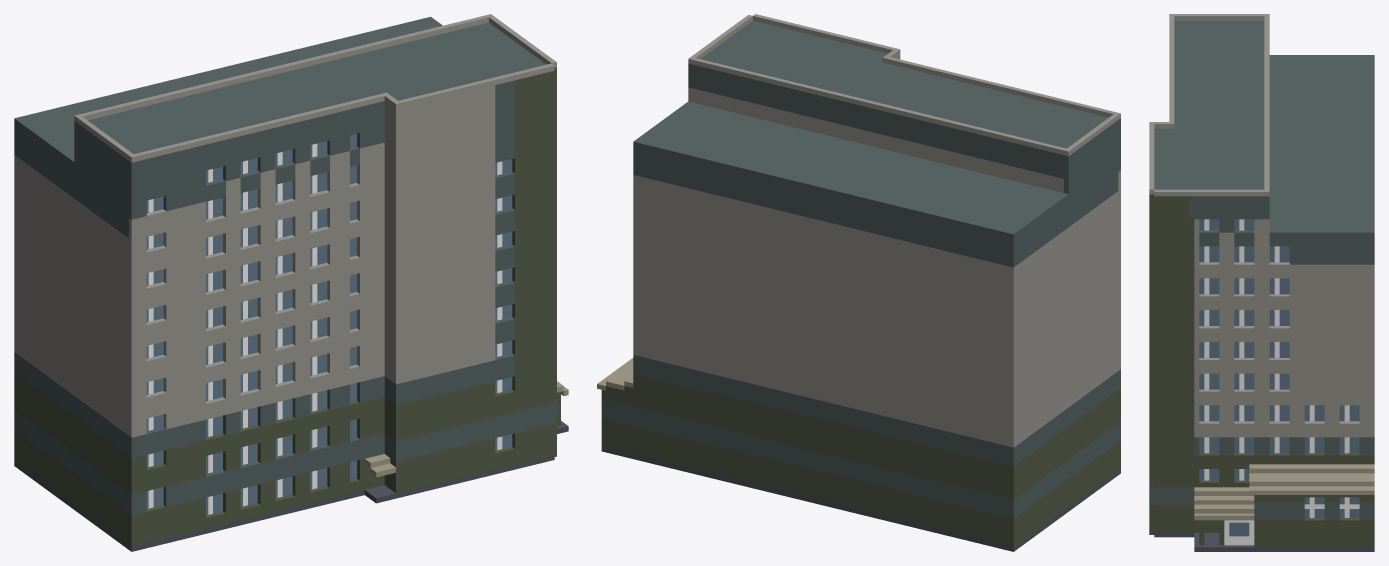
File: unikit.glb
The picture shows the model from 3 angles, left to right: view 1: azimuth 30°, elevation 25°; view 2: azimuth 150°, elevation 25°; view 3: azimuth 270°, elevation 25°; orthographic projection. The views are drawn at different scales.
Visible parts, largest first — view 1: unikit; view 2: unikit; view 3: unikit.
Part boxes in pixels (x1,y1,x2,y2): unikit: (14, 14, 568, 551); unikit: (597, 14, 1120, 551); unikit: (1149, 14, 1374, 551).
Bounding box in the file's own units: 2 × 1.65 × 0.9782.
Materials: 1 (1 with a texture image).
